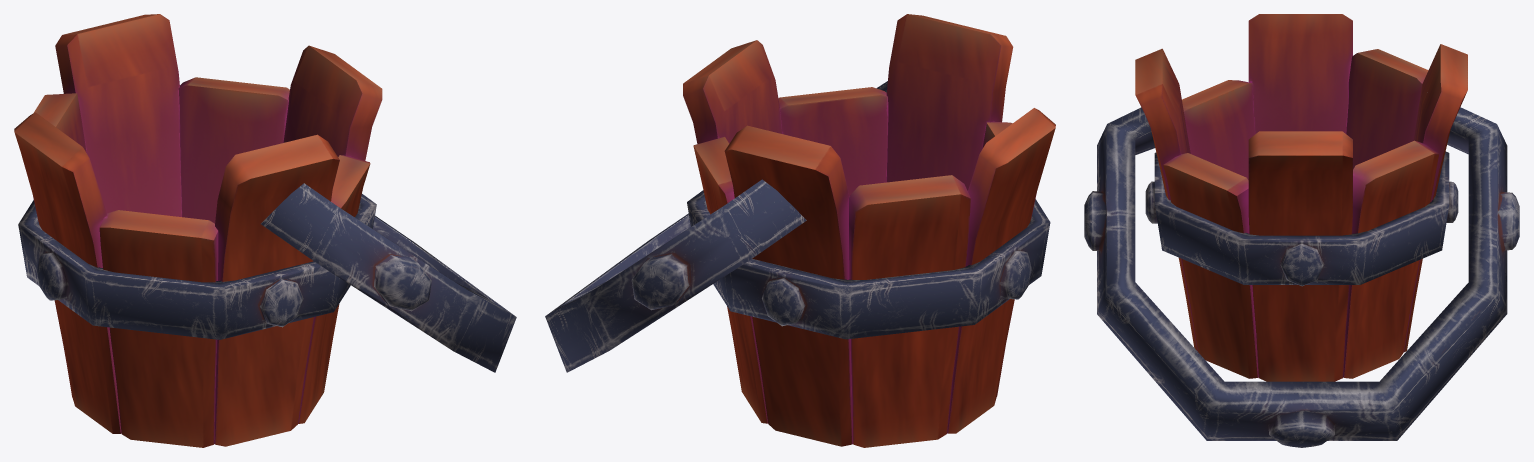
Rendered from bucket.fbx.
3 views of the same model, side by side, from view 1: azimuth 30°, elevation 25°; view 2: azimuth 150°, elevation 25°; view 3: azimuth 270°, elevation 25° (orthographic). The views are drawn at different scales.
Parts seen in each view (by area): view 1: bucket, bucket_hoop, bucket_handle; view 2: bucket, bucket_hoop, bucket_handle; view 3: bucket, bucket_handle, bucket_hoop.
Boxes of the visible parts, x1,y1,x2,y2 form: bucket: (14, 14, 382, 447); bucket_hoop: (18, 194, 376, 339); bucket_handle: (261, 183, 516, 372); bucket: (683, 14, 1055, 447); bucket_hoop: (687, 190, 1050, 339); bucket_handle: (545, 81, 887, 372); bucket: (1135, 14, 1467, 381); bucket_handle: (1084, 92, 1519, 447); bucket_hoop: (1145, 151, 1458, 286).
Size of the model in its own units: 665 by 453 by 648.
